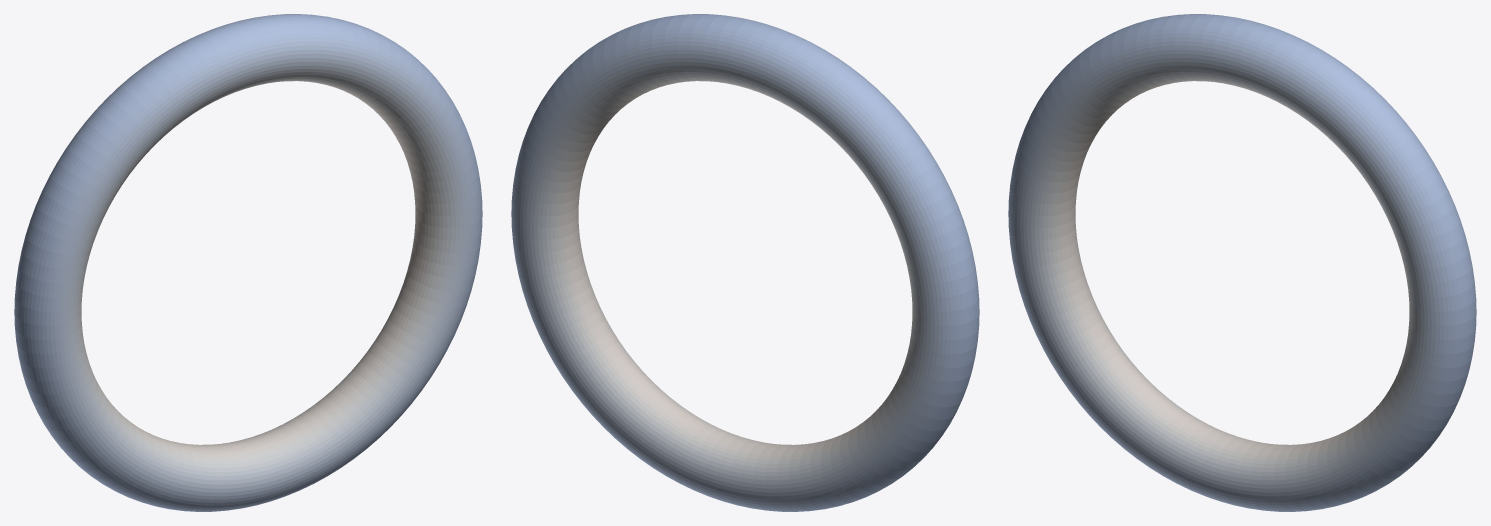
3 renders of one model, left to right at view 1: azimuth 30°, elevation 25°; view 2: azimuth 150°, elevation 25°; view 3: azimuth 330°, elevation 25°, orthographic.
Visible parts, largest first — view 1: world; view 2: world; view 3: world.
Part boxes in pixels (x1,y1,x2,y2): world: [14, 14, 482, 511]; world: [511, 14, 979, 511]; world: [1008, 14, 1476, 511].
Size of the model in its own units: 30.53 by 30.53 by 3.86.
